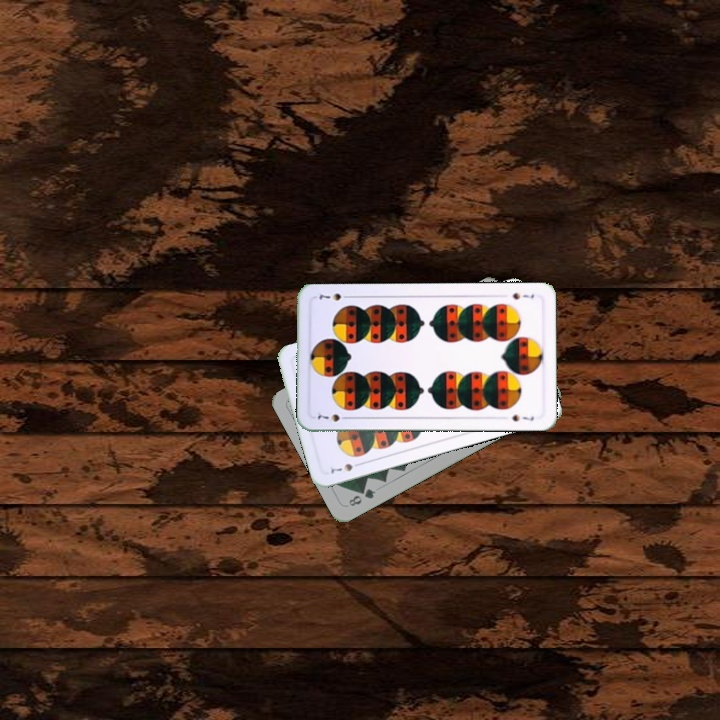G8: (344, 484, 378, 509)
S7: (326, 459, 365, 476), (313, 408, 352, 424), (509, 288, 536, 302)
